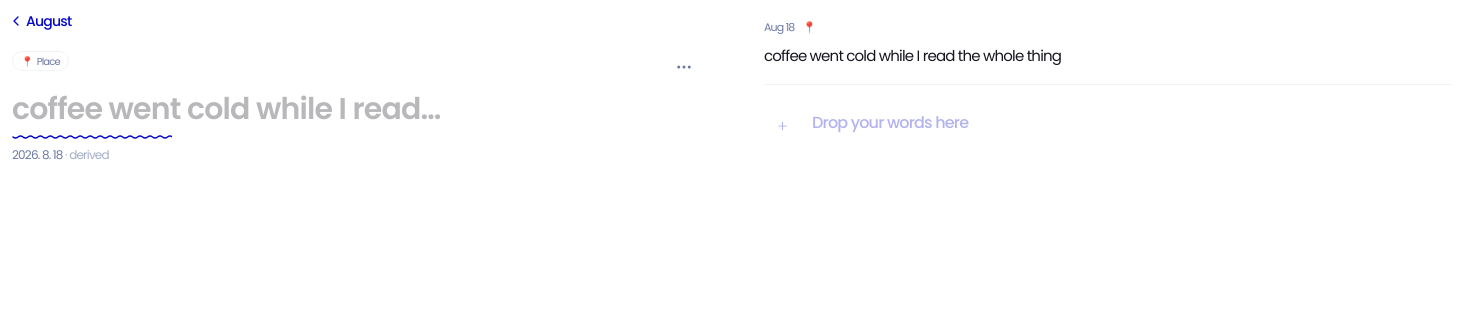
Test: a lone block as an untitled post (H21a) › gets a row of its own the first time it is extended, and the page moves to it
This screenshot has width=1464, height=329.
Click the button "Drop your words here". click: [890, 123]
box: [812,111,968,135]
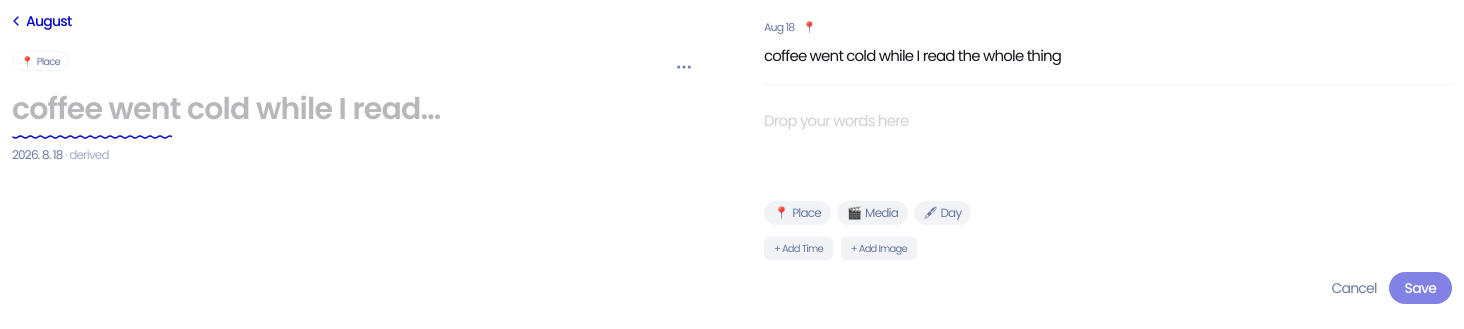
Result: the element showing "📍 Place 🎬 Media 🖋 Day + Add Time + Add Image Cancel Save" is shown at [764,101,1452,312]
